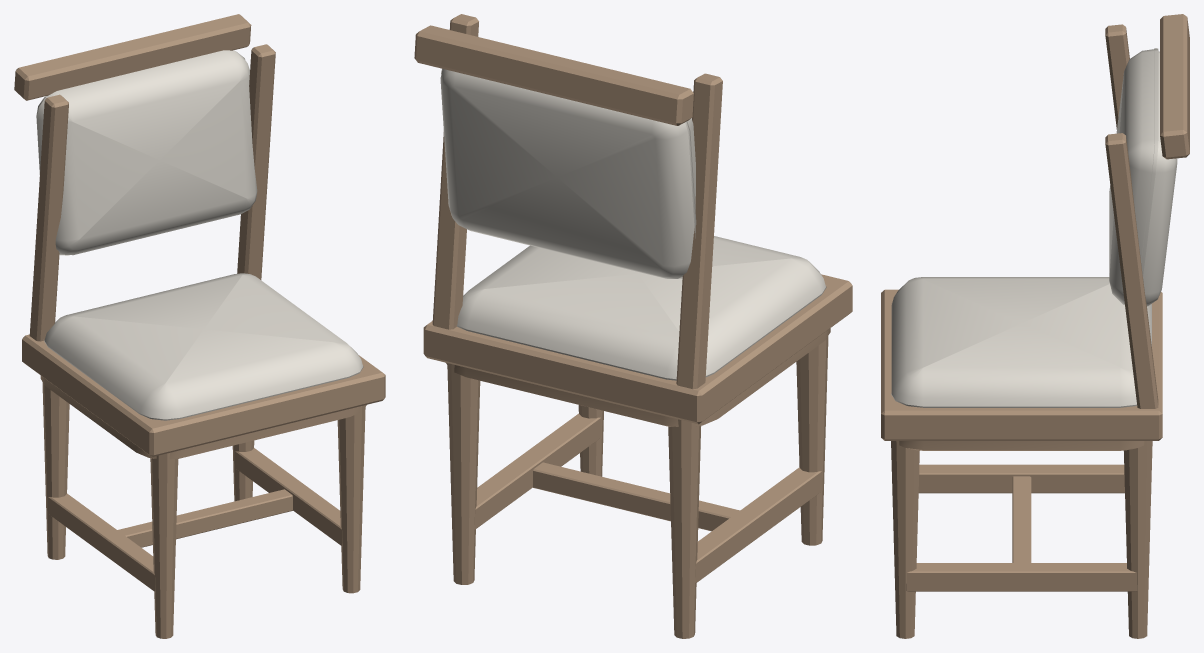
Rendered from guest-room-desk-chair.glb.
3 views of the same model, side by side, from view 1: azimuth 30°, elevation 25°; view 2: azimuth 150°, elevation 25°; view 3: azimuth 270°, elevation 25° (orthographic). The views are drawn at different scales.
Parts seen in each view (by area): view 1: guest-desk-chair; view 2: guest-desk-chair; view 3: guest-desk-chair.
Part boxes in pixels (<box>): guest-desk-chair: <box>14,14,385,638</box>; guest-desk-chair: <box>414,14,852,638</box>; guest-desk-chair: <box>881,14,1189,638</box>.
Size of the model in its own units: 0.4801 by 0.9265 by 0.5047.
